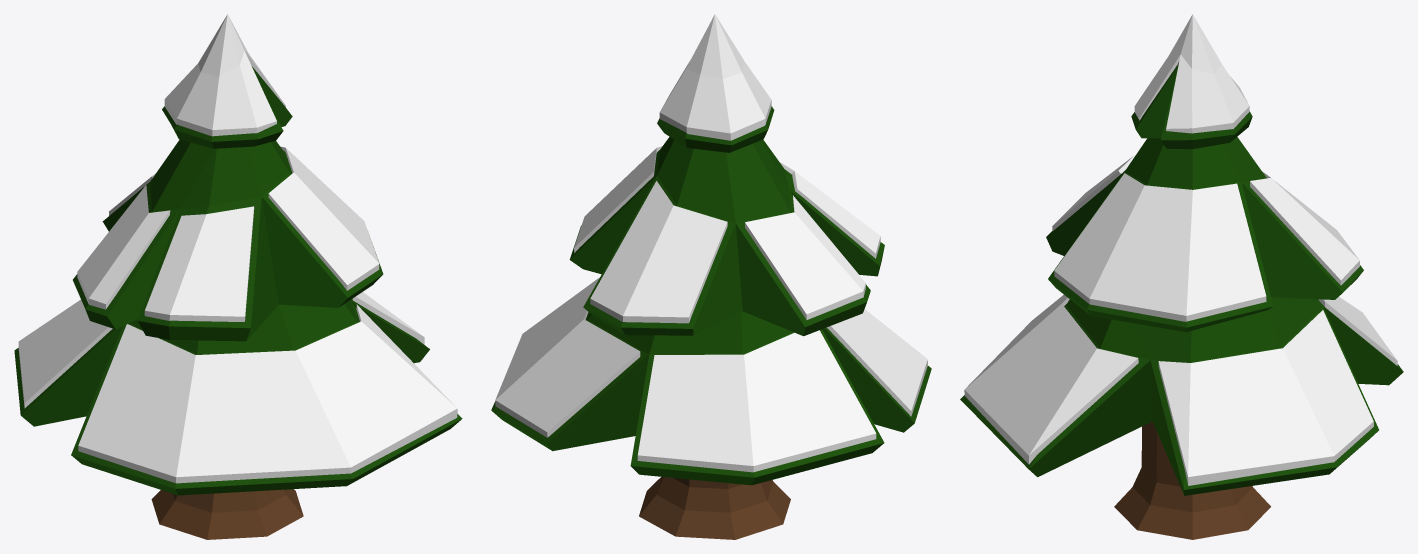
File: pino_nieve_2.fbx
The picture shows the model from 3 angles, left to right: view 1: azimuth 30°, elevation 25°; view 2: azimuth 150°, elevation 25°; view 3: azimuth 270°, elevation 25°; orthographic projection.
Visible parts, largest first — view 1: pinoNieve2:Mesh; view 2: pinoNieve2:Mesh; view 3: pinoNieve2:Mesh.
Part boxes in pixels (x1,y1,x2,y2): pinoNieve2:Mesh: (14,14,462,539); pinoNieve2:Mesh: (491,14,931,539); pinoNieve2:Mesh: (960,14,1403,539).
Bounding box in the file's own units: 104 × 128 × 104.
Materials: 1 (1 with a texture image).
